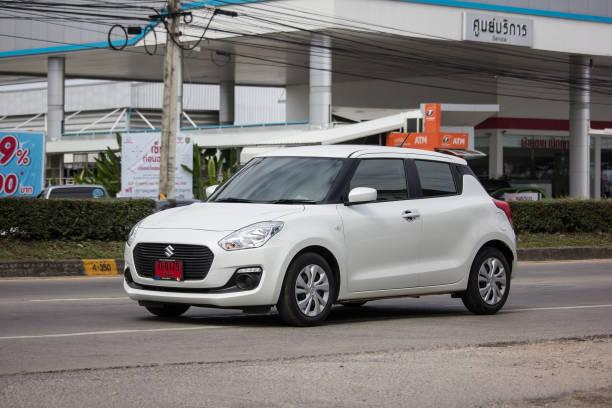suzuki: (161, 240, 181, 261)
